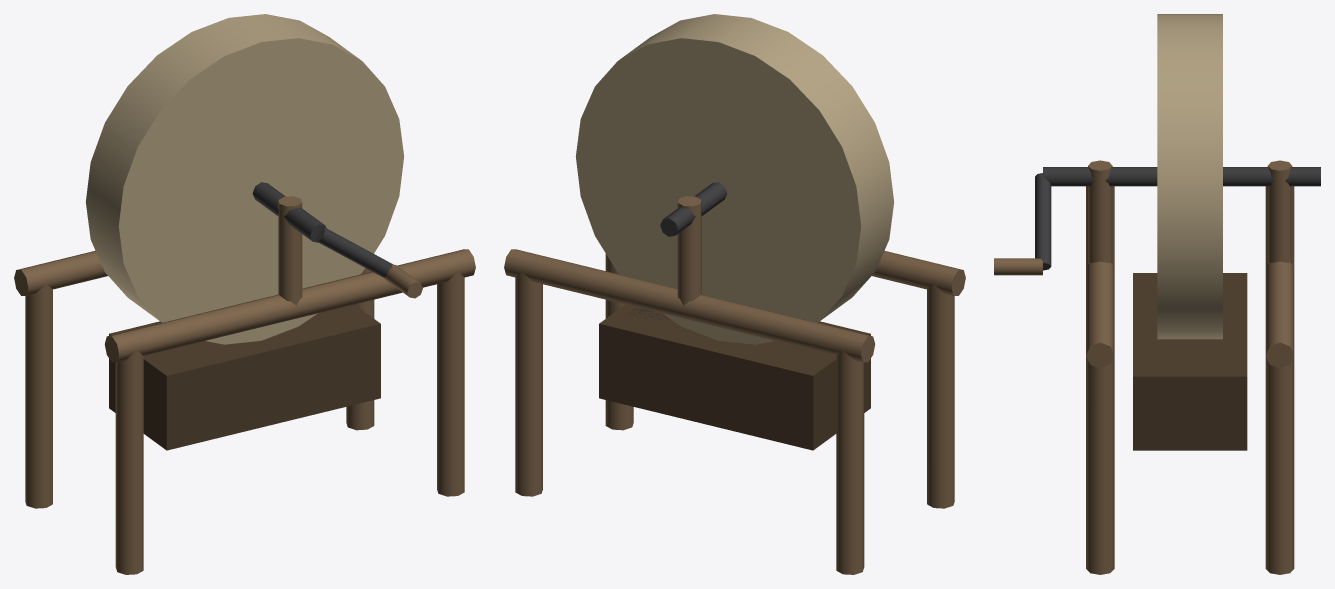
Rendered from tochylo.glb.
3 renders of one model, left to right at view 1: azimuth 30°, elevation 25°; view 2: azimuth 150°, elevation 25°; view 3: azimuth 270°, elevation 25°, orthographic.
Parts seen in each view (by area): view 1: stone, trough, leg (×4), rail (×2), post, axle, crank, crank_grip; view 2: stone, trough, leg (×4), rail (×2), post, axle; view 3: stone, trough, leg (×2), rail (×2), post (×2), axle, crank, crank_grip.
Boxes of the visible parts, x1,y1,x2,y2 form: stone: [86, 14, 404, 344]; trough: [109, 304, 380, 450]; leg (×4): [25, 253, 464, 574]; rail (×2): [14, 249, 475, 362]; post: [278, 196, 302, 305]; axle: [252, 182, 326, 242]; crank: [315, 226, 392, 277]; crank_grip: [384, 264, 422, 298]; stone: [575, 14, 893, 344]; trough: [599, 304, 870, 450]; leg (×4): [515, 253, 954, 574]; rail (×2): [504, 249, 965, 362]; post: [677, 196, 701, 305]; axle: [660, 182, 727, 236]; stone: [1157, 14, 1222, 339]; trough: [1133, 273, 1247, 450]; leg (×2): [1086, 356, 1294, 574]; rail (×2): [1086, 186, 1294, 368]; post (×2): [1088, 160, 1292, 264]; axle: [1043, 167, 1320, 186]; crank: [1035, 173, 1051, 270]; crank_grip: [994, 258, 1042, 275].
Bounding box in the file's own units: 1 × 1.25 × 0.8.
